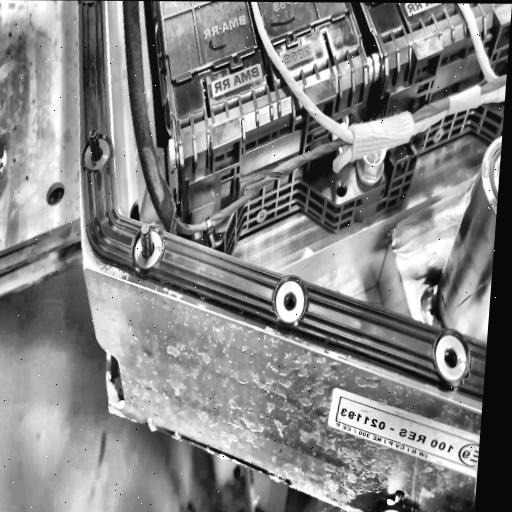high_volt_cable: (246, 2, 507, 175)
low_volt_cable: (115, 1, 338, 247)
